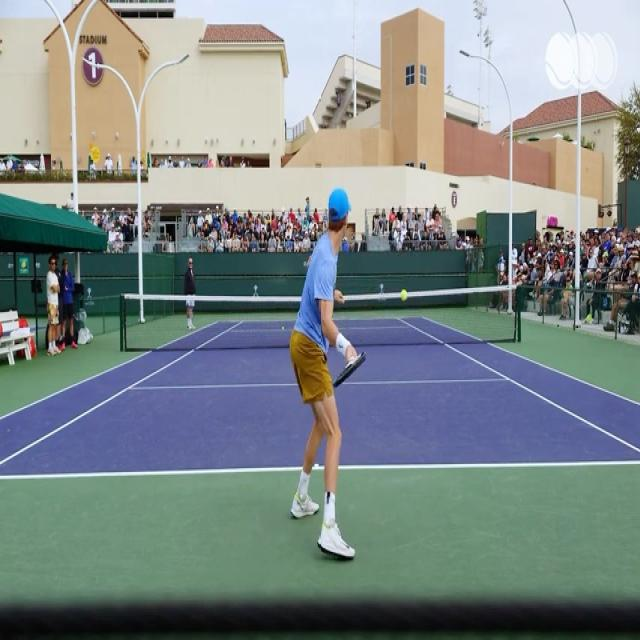forehand-stroke: (292, 185, 371, 571)
